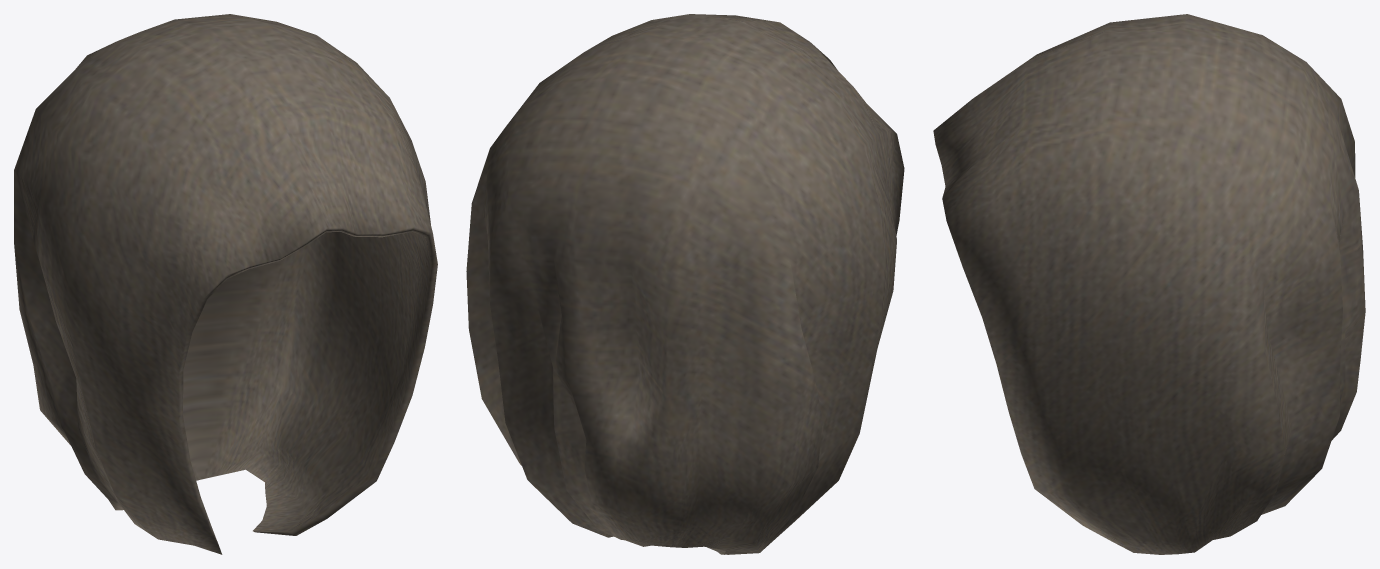
3 renders of one model, left to right at view 1: azimuth 30°, elevation 25°; view 2: azimuth 150°, elevation 25°; view 3: azimuth 270°, elevation 25°, orthographic. The views are drawn at different scales.
Parts seen in each view (by area): view 1: Wolf3D_Headwear.017; view 2: Wolf3D_Headwear.017; view 3: Wolf3D_Headwear.017.
Boxes of the visible parts, x1,y1,x2,y2 form: Wolf3D_Headwear.017: (14, 14, 437, 554); Wolf3D_Headwear.017: (466, 14, 904, 554); Wolf3D_Headwear.017: (933, 14, 1365, 554).
Bounding box in the file's own units: 0.228 × 0.3067 × 0.2434.
1 material, 1 textured.
